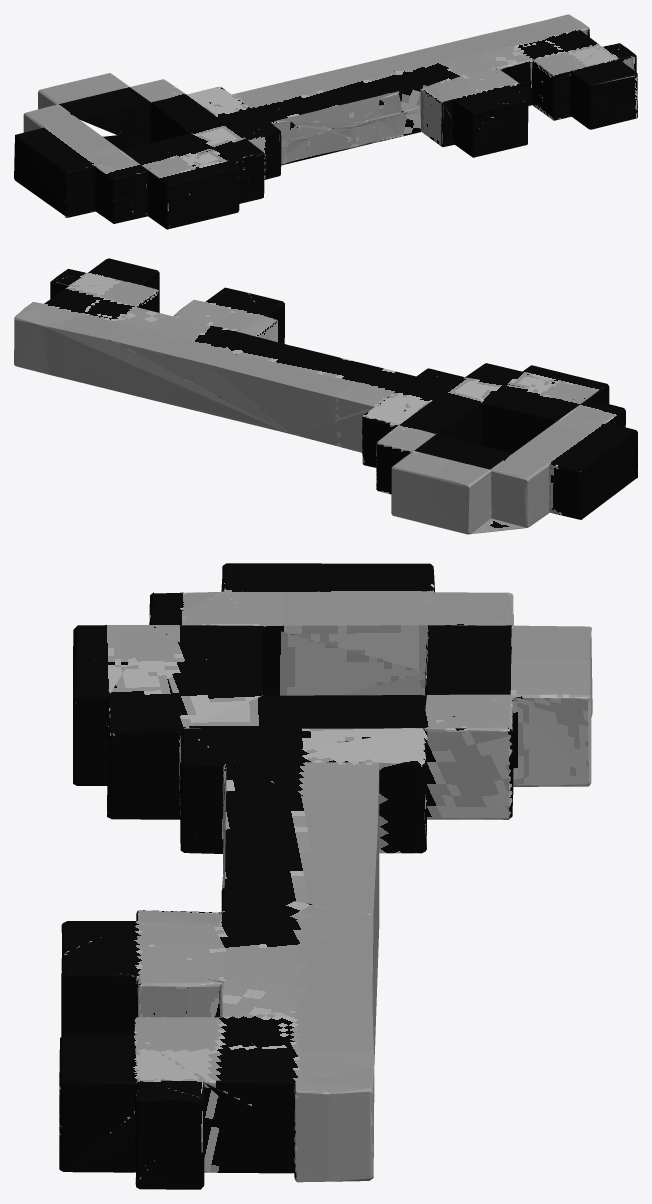
3 renders of one model, top to bottom at view 1: azimuth 30°, elevation 25°; view 2: azimuth 150°, elevation 25°; view 3: azimuth 270°, elevation 25°, orthographic. The views are drawn at different scales.
Visible parts, largest first — view 1: OBJ109; view 2: OBJ109; view 3: OBJ109.
Boxes of the visible parts, x1,y1,x2,y2 form: OBJ109: (14, 14, 637, 229); OBJ109: (14, 258, 637, 534); OBJ109: (59, 563, 592, 1189).
Bounding box in the file's own units: 0.3225 × 0.0259 × 0.1354.
1 material, 1 textured.
